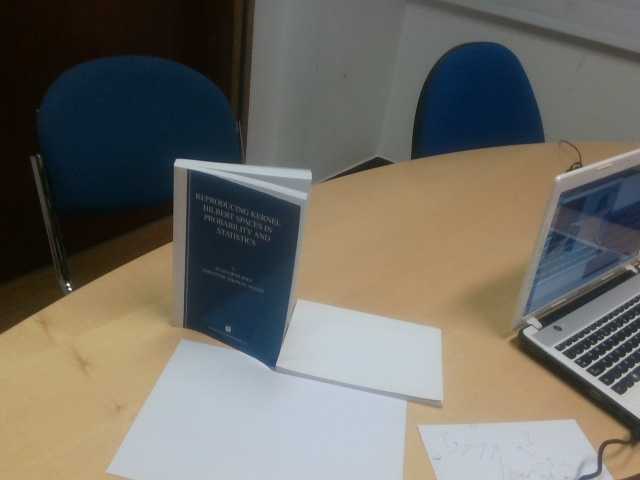book: (173, 157, 316, 371)
